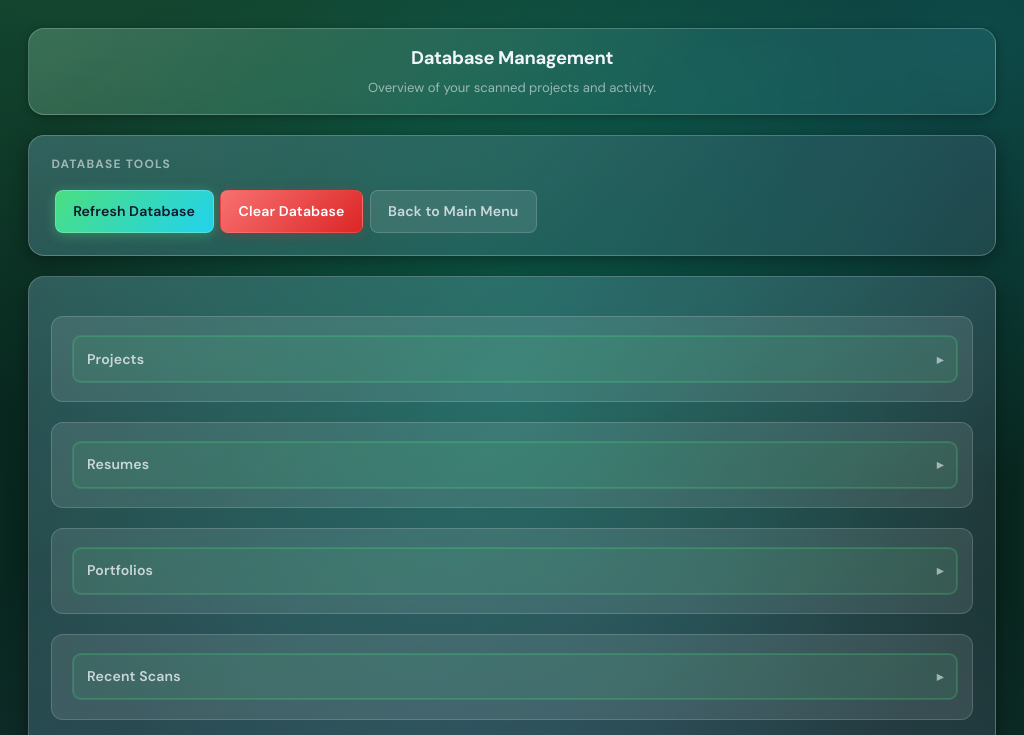
Test: DatabaseMaintenance › renders page and loads database tables
The image size is (1024, 735).
expect the heading "Database Management" is shown: met, box [411,46,613,70]
Click the button "Projects ▸" at (116, 359), box [73,336,957,382]
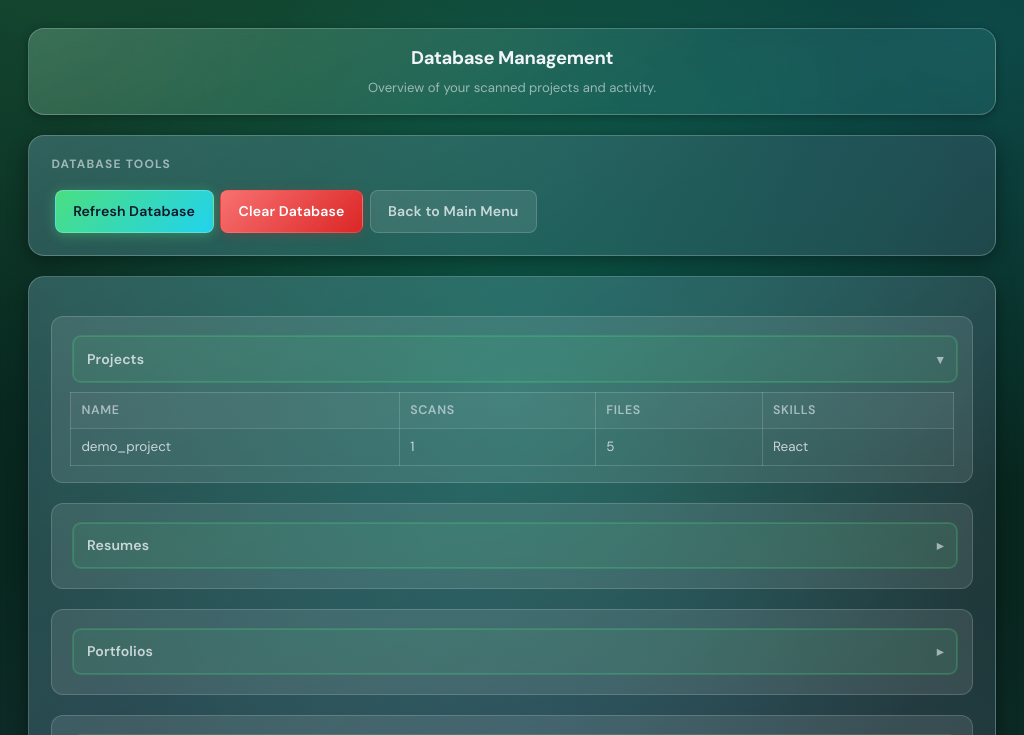
expect the text "demo_project" is shown: met, box [70,428,399,465]
